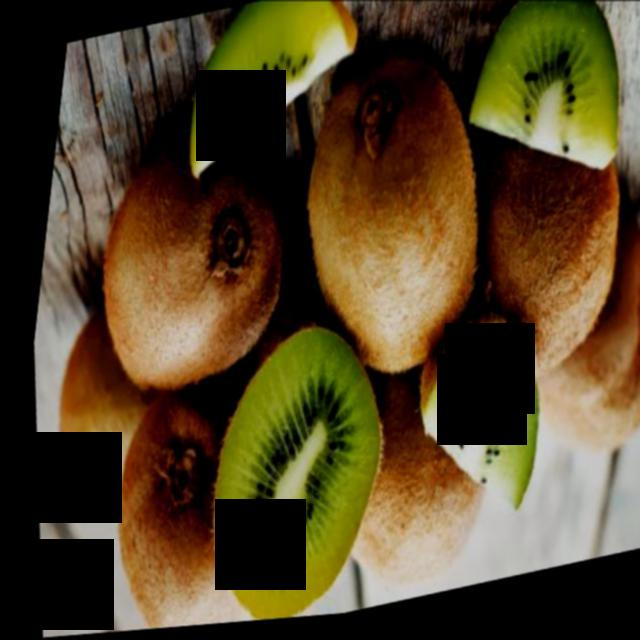kiwi: (259, 13, 507, 401), (54, 121, 310, 412), (447, 121, 640, 400), (321, 370, 505, 618), (77, 395, 262, 637), (503, 240, 640, 494)
